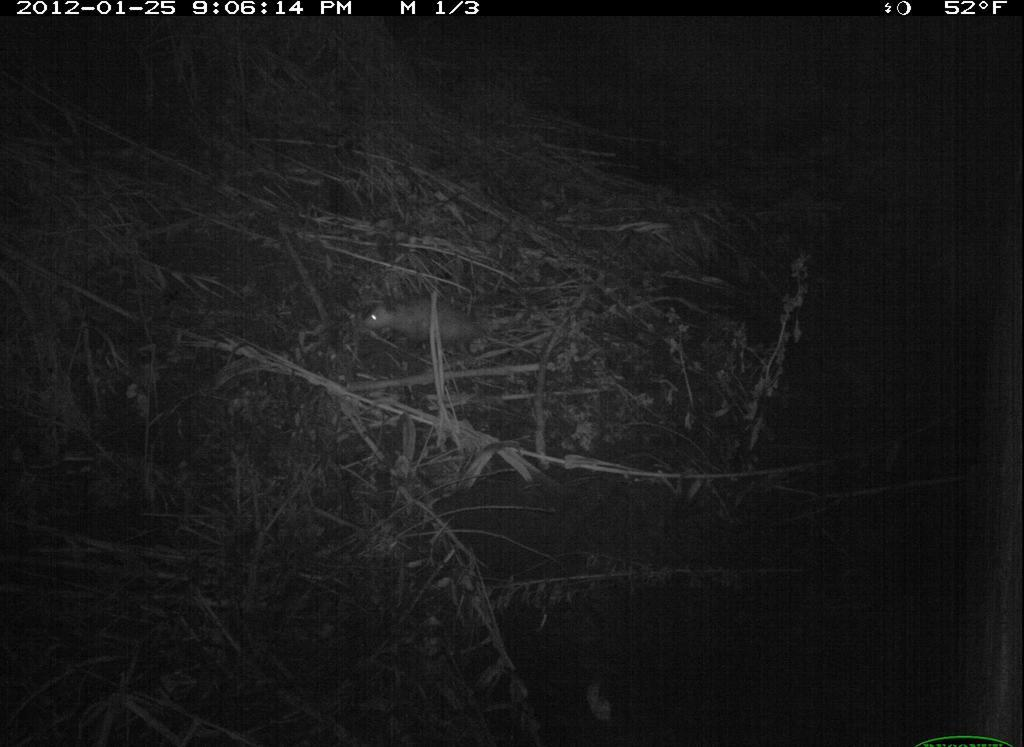opossum: (354, 291, 510, 359)
